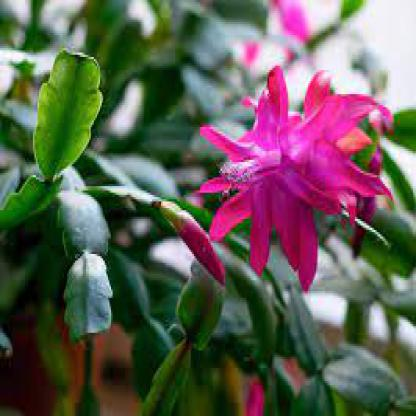Aglonema: (107, 27, 319, 183)
